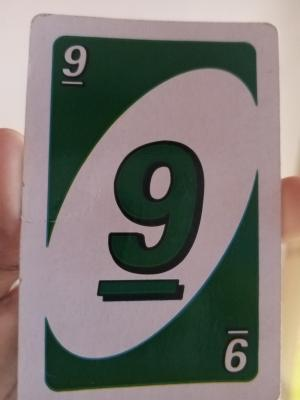green: (46, 38, 267, 392)
num_9: (217, 323, 257, 379), (53, 36, 92, 91)
